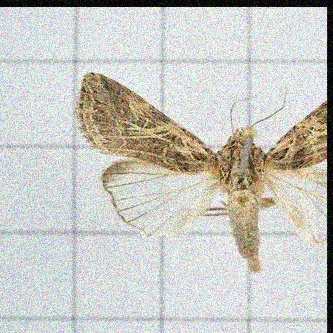Spodoptera litura: (73, 71, 326, 272)
